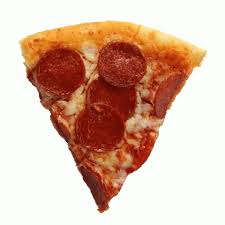pizza: (12, 10, 210, 220)
